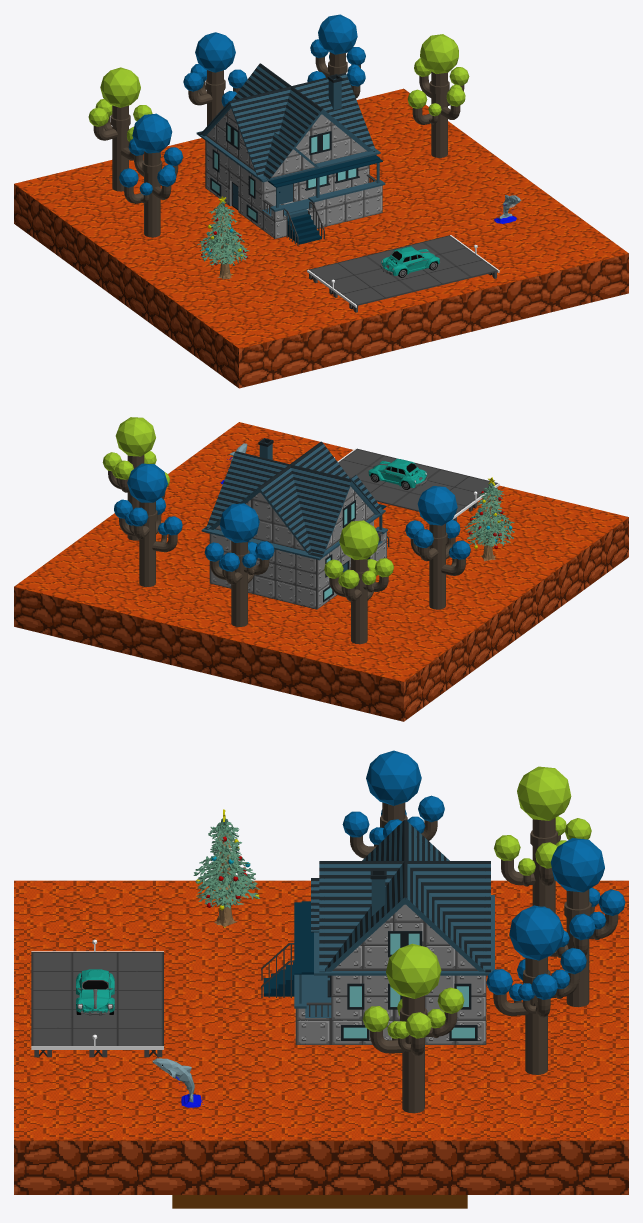
3 renders of one model, top to bottom at view 1: azimuth 30°, elevation 25°; view 2: azimuth 150°, elevation 25°; view 3: azimuth 270°, elevation 25°, orthographic. The views are drawn at different scales.
Parts seen in each view (by area): view 1: Cube.001, Cube.078, OBJRANDOM_CHRISTMAS_TREE, VEHICLES_VOLKSWAGEN; view 2: Cube.001, Cube.078, OBJRANDOM_CHRISTMAS_TREE, VEHICLES_VOLKSWAGEN; view 3: Cube.001, Cube.078, UNDERGROUND_ART_PIECE_VAN_GOGH, OBJRANDOM_CHRISTMAS_TREE, VEHICLES_VOLKSWAGEN, ANIMAL_DELFIN.
Boxes of the visible parts, x1,y1,x2,y2 form: Cube.001: (14,14,628,388); Cube.078: (196,63,385,245); OBJRANDOM_CHRISTMAS_TREE: (197,196,249,279); VEHICLES_VOLKSWAGEN: (380,246,440,277); Cube.001: (14,417,628,721); Cube.078: (201,438,389,609); OBJRANDOM_CHRISTMAS_TREE: (464,477,514,561); VEHICLES_VOLKSWAGEN: (368,458,427,489); Cube.001: (14,750,628,1194); Cube.078: (261,820,494,1044); UNDERGROUND_ART_PIECE_VAN_GOGH: (172,1195,467,1208); OBJRANDOM_CHRISTMAS_TREE: (193,809,260,927); VEHICLES_VOLKSWAGEN: (76,969,114,1015); ANIMAL_DELFIN: (152,1058,203,1108).
Size of the model in its own units: 4000 by 1789 by 4000.
34 materials, 7 textured.
